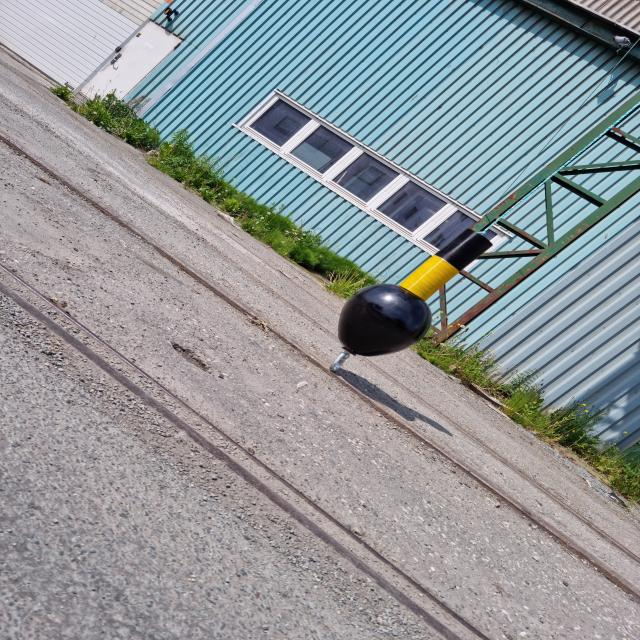east: (338, 229, 494, 359)
